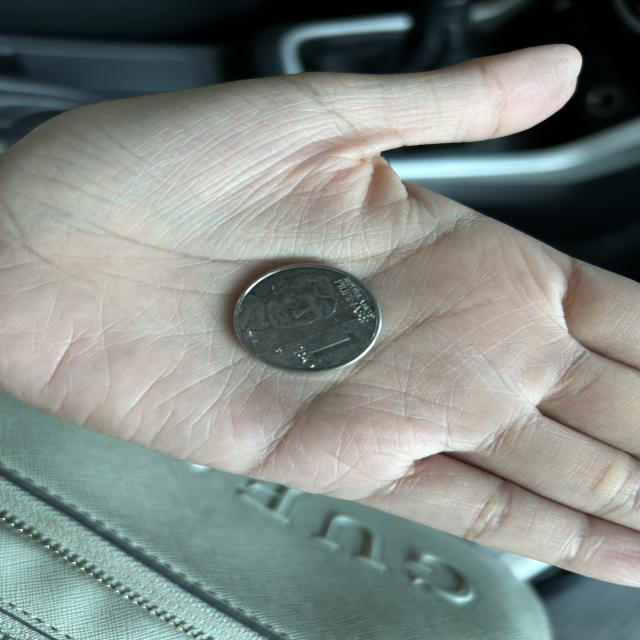1_New_Front: (293, 325, 367, 366)
